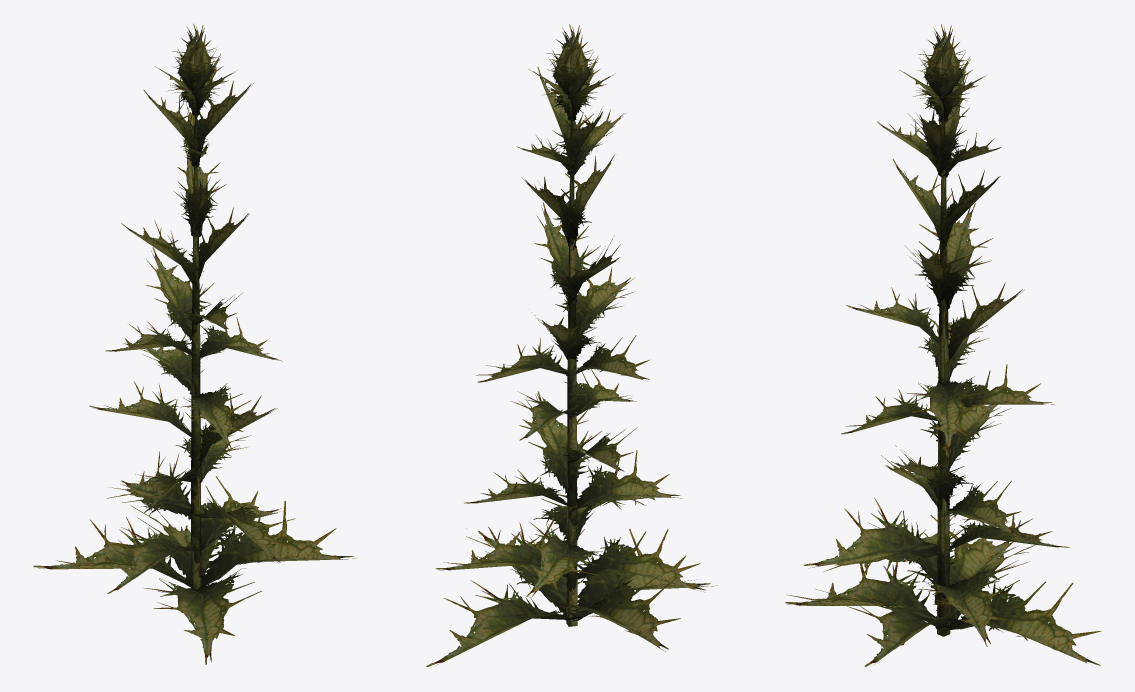
Rendered from thistle.glb.
3 views of the same model, side by side, from view 1: azimuth 30°, elevation 25°; view 2: azimuth 150°, elevation 25°; view 3: azimuth 270°, elevation 25° (orthographic). The views are drawn at different scales.
Bounding box in the file's own units: 119 × 232 × 120.
Materials: 1 (1 with a texture image).
